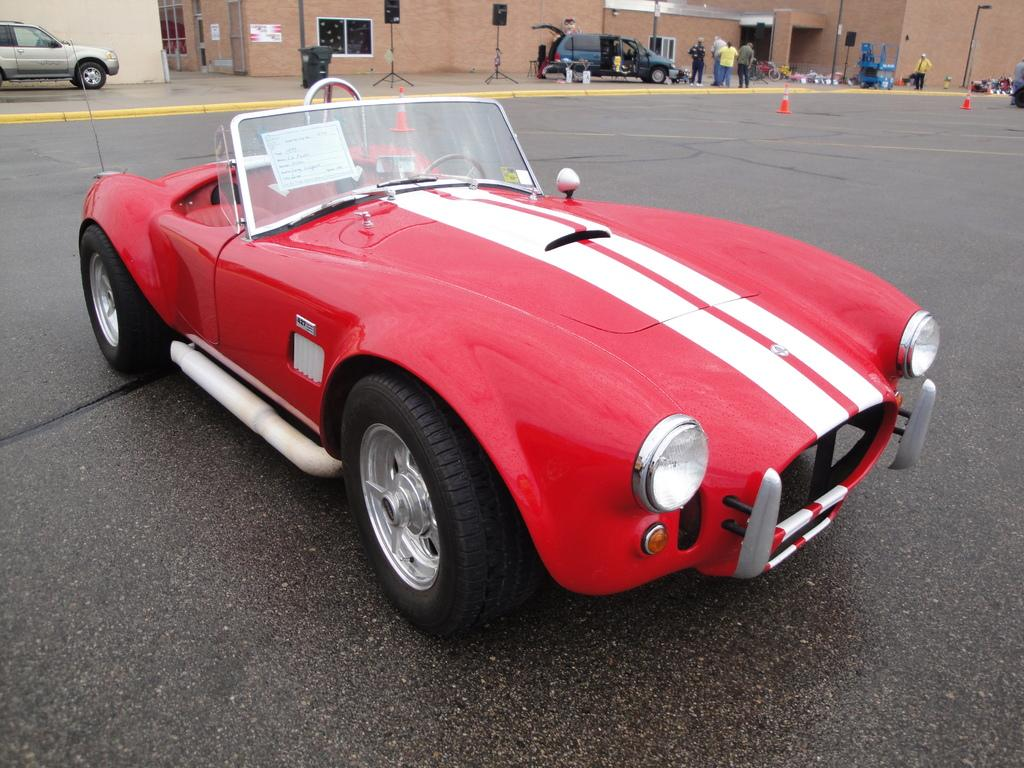Car: (74, 73, 945, 642), (532, 22, 681, 86), (0, 18, 120, 92)
